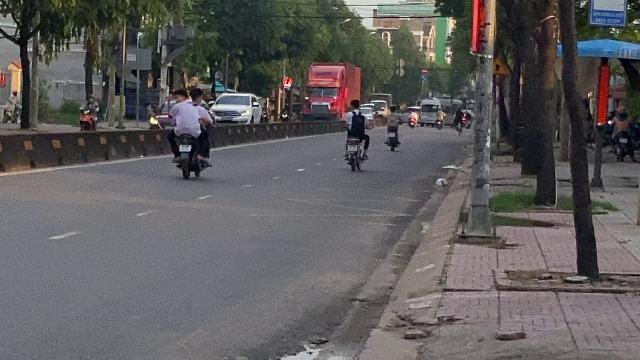motorcyclist: (166, 86, 214, 180)
nohelmet: (188, 87, 204, 105), (171, 89, 187, 104)
